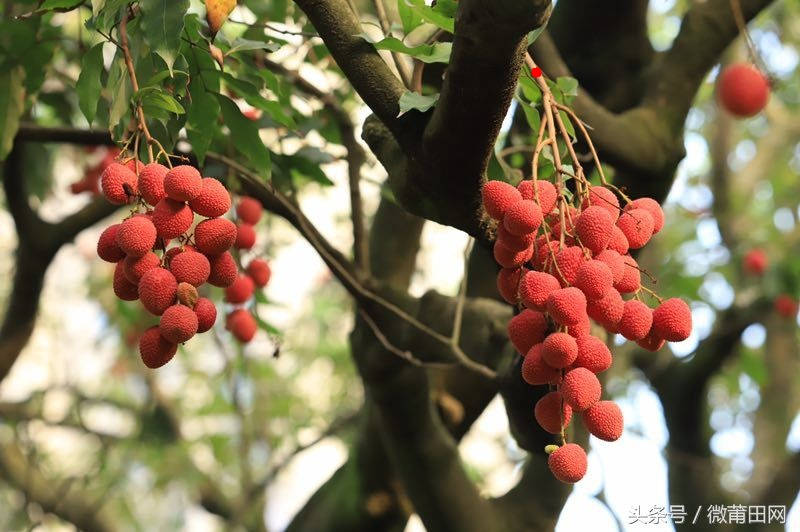litchi: (490, 183, 688, 480), (105, 165, 230, 364)
stem: (118, 18, 158, 145), (524, 53, 563, 116)
